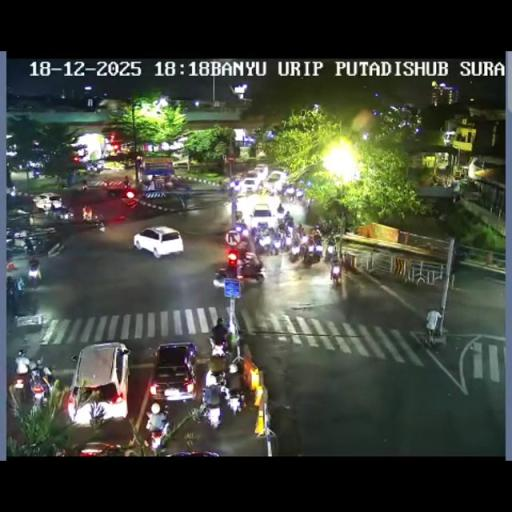Car: (68, 342, 130, 424), (148, 342, 198, 402), (133, 224, 184, 258), (72, 441, 128, 456), (250, 203, 275, 230), (33, 192, 63, 211), (102, 179, 132, 197), (266, 170, 286, 190), (238, 178, 260, 192), (254, 164, 268, 178)
Motorcycle: (144, 404, 170, 450), (27, 363, 52, 407), (196, 395, 224, 429), (235, 254, 265, 283), (10, 366, 30, 406), (423, 310, 445, 346), (203, 364, 227, 391), (212, 262, 238, 286), (226, 386, 244, 416), (302, 240, 322, 265), (6, 279, 19, 315), (252, 230, 270, 254), (27, 264, 42, 288), (328, 259, 342, 284), (288, 238, 302, 262), (234, 218, 249, 238), (27, 236, 43, 254), (210, 340, 226, 358), (267, 233, 279, 255), (277, 230, 289, 252), (58, 206, 75, 221), (283, 184, 295, 202), (6, 187, 19, 203), (218, 383, 230, 400), (326, 239, 336, 259), (304, 194, 314, 212), (238, 236, 250, 251), (312, 229, 322, 246), (322, 220, 334, 234), (163, 176, 175, 190), (294, 186, 305, 201), (16, 276, 25, 294), (276, 206, 286, 221), (96, 218, 106, 232), (285, 215, 294, 229), (220, 180, 230, 192), (228, 362, 238, 374), (234, 210, 244, 222), (300, 232, 309, 245), (82, 183, 87, 191)
